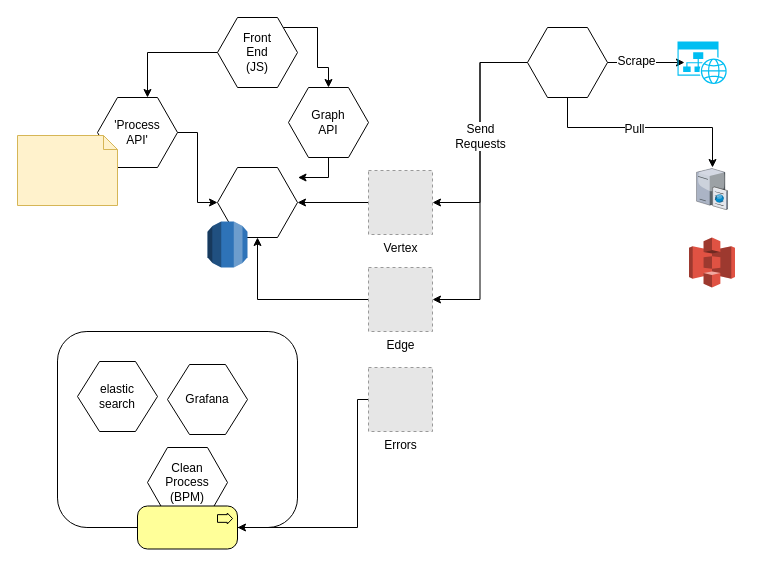
The diagram is 769 pixels wide and 567 high, and some of its shapes have lost their labels. Grey dashed boxes stand in for pictures. Each missing label, with the box of its shape:
Abstract flat Graph constructs into a specialist API / HATEOAS: (16, 134, 118, 206)
Gremlin Backend: (216, 166, 298, 238)
Rulesets, Types: (206, 220, 248, 268)
S3 Bucket (Datasources - URI's): (688, 236, 735, 288)
Scraper: (526, 26, 608, 98)
